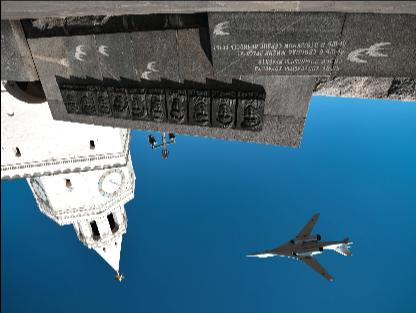Su34: (244, 213, 354, 280)
